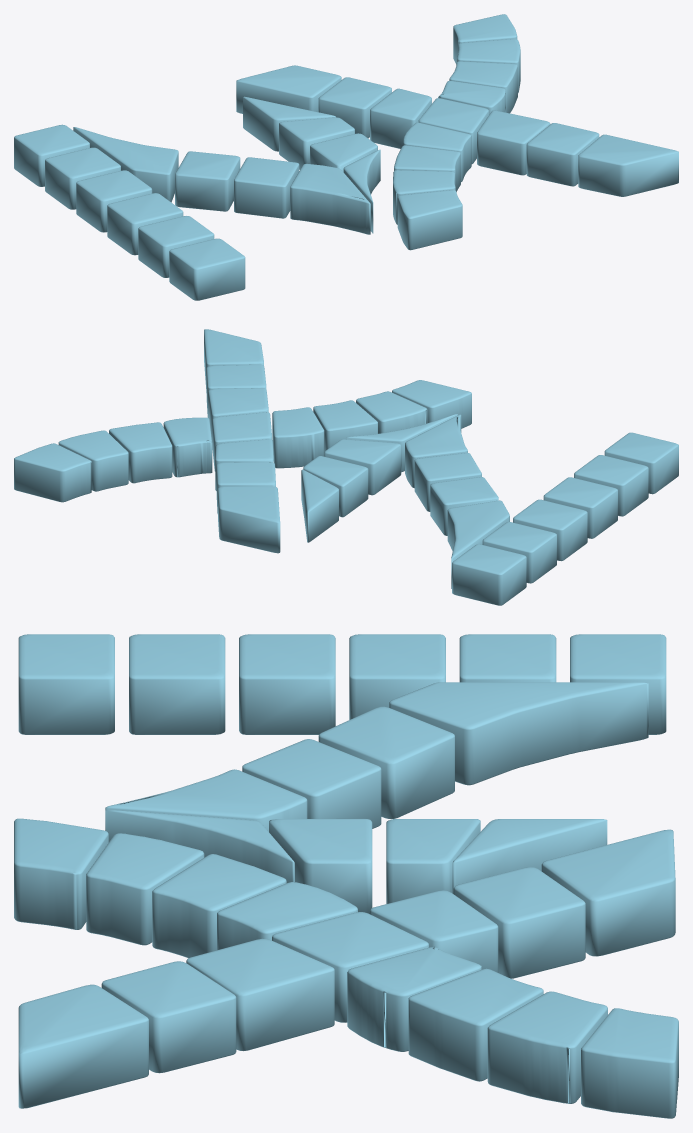
Rendered from untitl9ed.glb.
3 renders of one model, top to bottom at view 1: azimuth 30°, elevation 25°; view 2: azimuth 150°, elevation 25°; view 3: azimuth 270°, elevation 25°, orthographic. The views are drawn at different scales.
Visible parts, largest first — view 1: Curve.019, Curve.028, Curve, Curve.001, Curve.026, Curve.027, Curve.023, Curve.018, Curve.022, Curve.014, Curve.012, Curve.010 (+17 smaller); view 2: Curve.023, Curve.016, Curve.002, Curve.007, Curve.006, Curve.004, Curve, Curve.010, Curve.012, Curve.013, Curve.011, Curve.008 (+17 smaller); view 3: Curve.014, Curve.019, Curve.023, Curve.022, Curve, Curve.010, Curve.011, Curve.018, Curve.017, Curve.004, Curve.002, Curve.006 (+17 smaller).
Boxes of the visible parts, left/top/right/bottom form: Curve.019: left=578, top=134, right=678, bottom=196; Curve.028: left=290, top=163, right=370, bottom=234; Curve: left=169, top=238, right=245, bottom=300; Curve.001: left=397, top=190, right=462, bottom=250; Curve.026: left=175, top=151, right=240, bottom=211; Curve.027: left=234, top=157, right=299, bottom=218; Curve.023: left=236, top=65, right=341, bottom=113; Curve.018: left=526, top=123, right=599, bottom=186; Curve.022: left=477, top=110, right=550, bottom=175; Curve.014: left=73, top=127, right=178, bottom=202; Curve.012: left=76, top=170, right=152, bottom=232; Curve.010: left=138, top=216, right=214, bottom=277; Curve.023: left=218, top=486, right=280, bottom=553; Curve.016: left=452, top=544, right=526, bottom=605; Curve.002: left=14, top=443, right=91, bottom=502; Curve.007: left=272, top=407, right=324, bottom=468; Curve.006: left=109, top=422, right=172, bottom=483; Curve.004: left=58, top=430, right=128, bottom=491; Curve: left=604, top=432, right=678, bottom=494; Curve.010: left=574, top=455, right=648, bottom=516; Curve.012: left=513, top=499, right=587, bottom=561; Curve.013: left=482, top=522, right=556, bottom=583; Curve.011: left=543, top=477, right=617, bottom=538; Curve.008: left=163, top=417, right=212, bottom=477; Curve.014: left=389, top=682, right=648, bottom=785; Curve.019: left=18, top=984, right=148, bottom=1108; Curve.023: left=541, top=829, right=675, bottom=956; Curve.022: left=186, top=938, right=334, bottom=1051; Curve: left=18, top=634, right=114, bottom=734; Curve.010: left=129, top=634, right=225, bottom=734; Curve.011: left=239, top=634, right=335, bottom=734; Curve.018: left=101, top=961, right=236, bottom=1073; Curve.017: left=453, top=867, right=585, bottom=978; Curve.004: left=487, top=991, right=607, bottom=1103; Curve.002: left=581, top=1008, right=678, bottom=1118; Curve.006: left=408, top=968, right=543, bottom=1081.
Size of the model in its own units: 4.52 by 0.2915 by 2.96.
